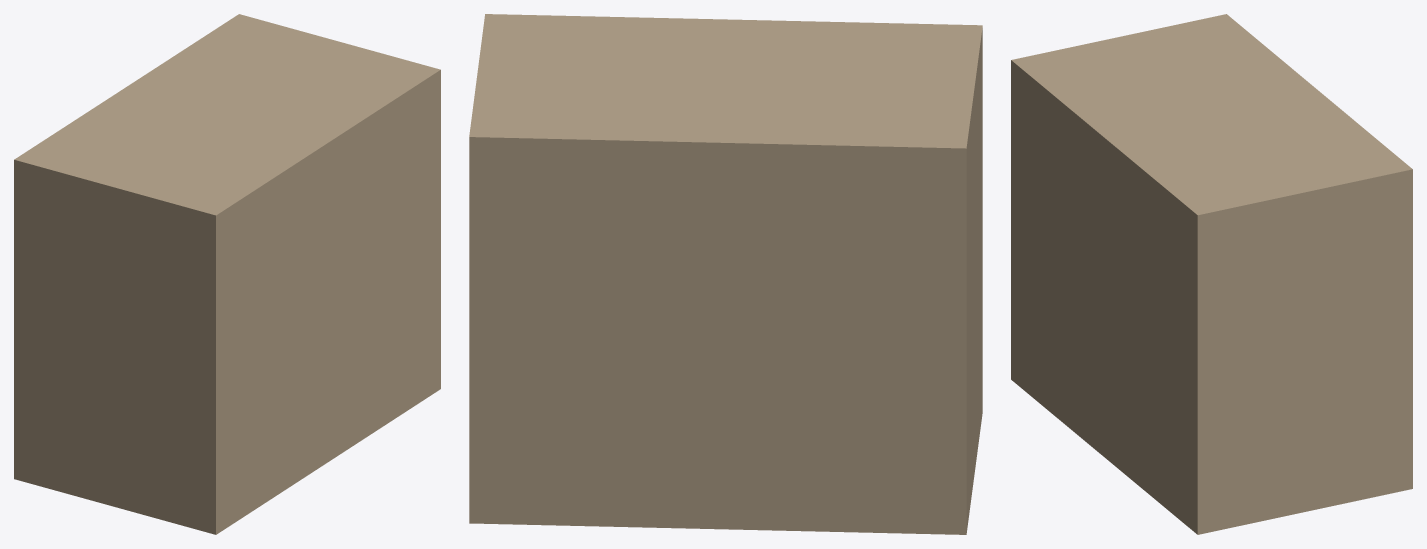
File: bld_101805928.dae
The picture shows the model from 3 angles, left to right: view 1: azimuth 30°, elevation 25°; view 2: azimuth 150°, elevation 25°; view 3: azimuth 270°, elevation 25°; orthographic projection. The views are drawn at different scales.
Visible parts, largest first — view 1: bld_101805928; view 2: bld_101805928; view 3: bld_101805928.
Part boxes in pixels (<box>): bld_101805928: <box>14,14,440,534</box>; bld_101805928: <box>469,14,982,534</box>; bld_101805928: <box>1011,14,1412,534</box>.
Size of the model in its own units: 10.81 by 9.11 by 8.
